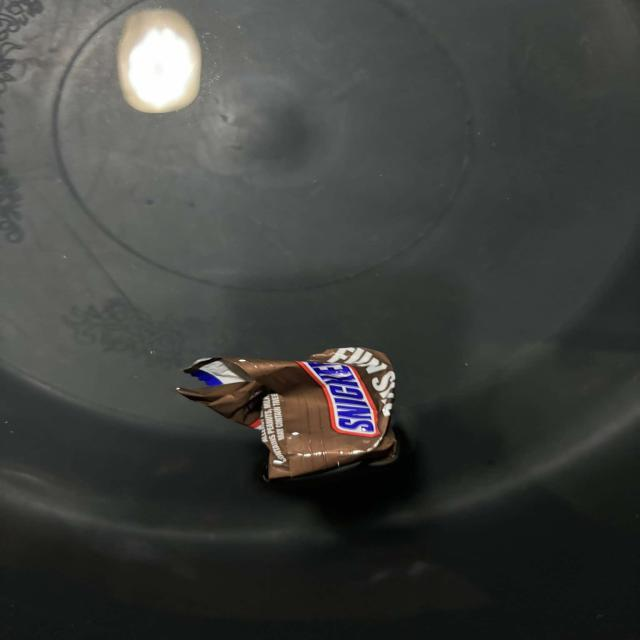Plastic Wrapper: (163, 316, 405, 494)
